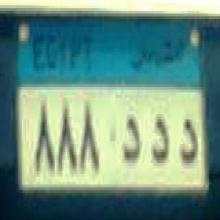8: (32, 98, 55, 179), (56, 98, 78, 178), (79, 100, 101, 178)
daal: (120, 109, 144, 173), (177, 112, 199, 173), (150, 112, 170, 172)
